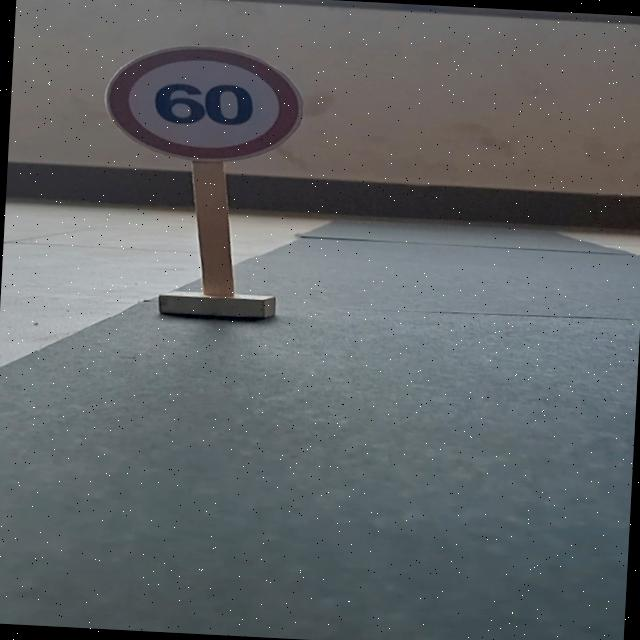Speed60: (96, 39, 315, 173)
